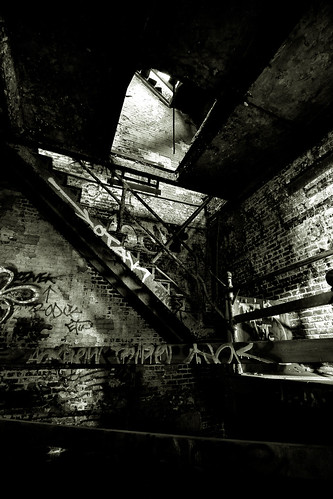graffiti: (53, 180, 153, 287), (1, 242, 99, 346), (24, 339, 263, 370)
